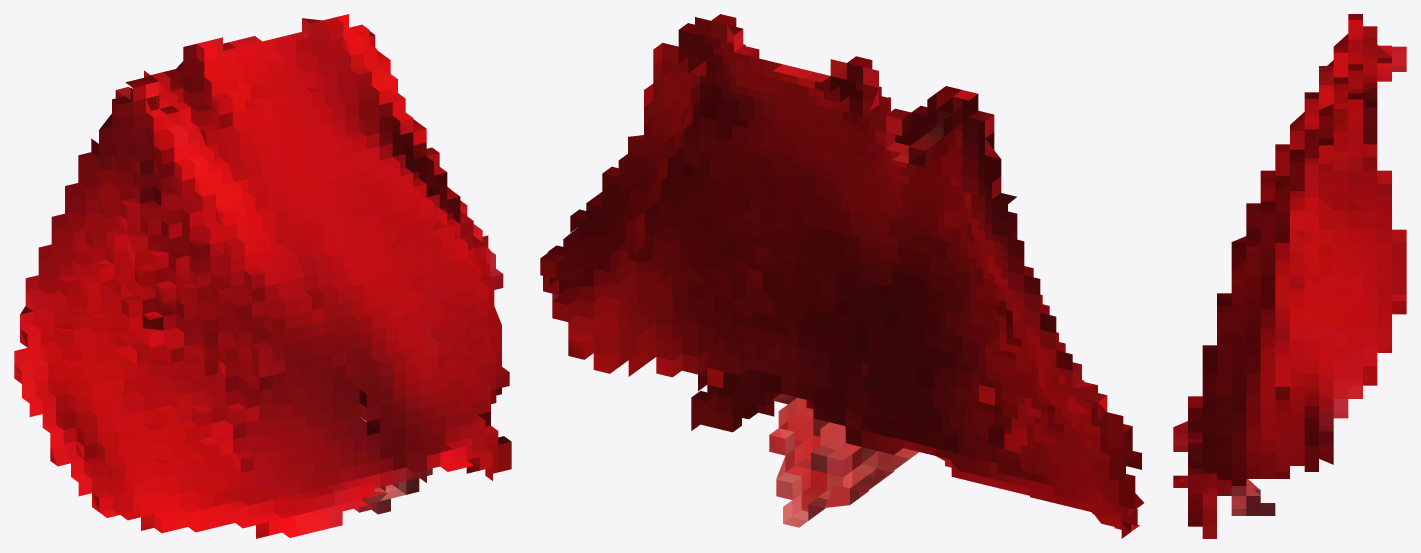
The model's file is petals.glb.
The picture shows the model from 3 angles, left to right: view 1: azimuth 30°, elevation 25°; view 2: azimuth 150°, elevation 25°; view 3: azimuth 270°, elevation 25°; orthographic projection. The views are drawn at different scales.
Parts seen in each view (by area): view 1: tripo_node_ea3c314b-c735-45c0-8864-22e7ba57ee6d; view 2: tripo_node_ea3c314b-c735-45c0-8864-22e7ba57ee6d; view 3: tripo_node_ea3c314b-c735-45c0-8864-22e7ba57ee6d.
Part boxes in pixels (x1,y1,x2,y2): tripo_node_ea3c314b-c735-45c0-8864-22e7ba57ee6d: [14, 14, 511, 538]; tripo_node_ea3c314b-c735-45c0-8864-22e7ba57ee6d: [540, 14, 1143, 538]; tripo_node_ea3c314b-c735-45c0-8864-22e7ba57ee6d: [1173, 14, 1406, 538].
Size of the model in its own units: 0.9866 by 0.877 by 0.4385.
1 material, 1 textured.
